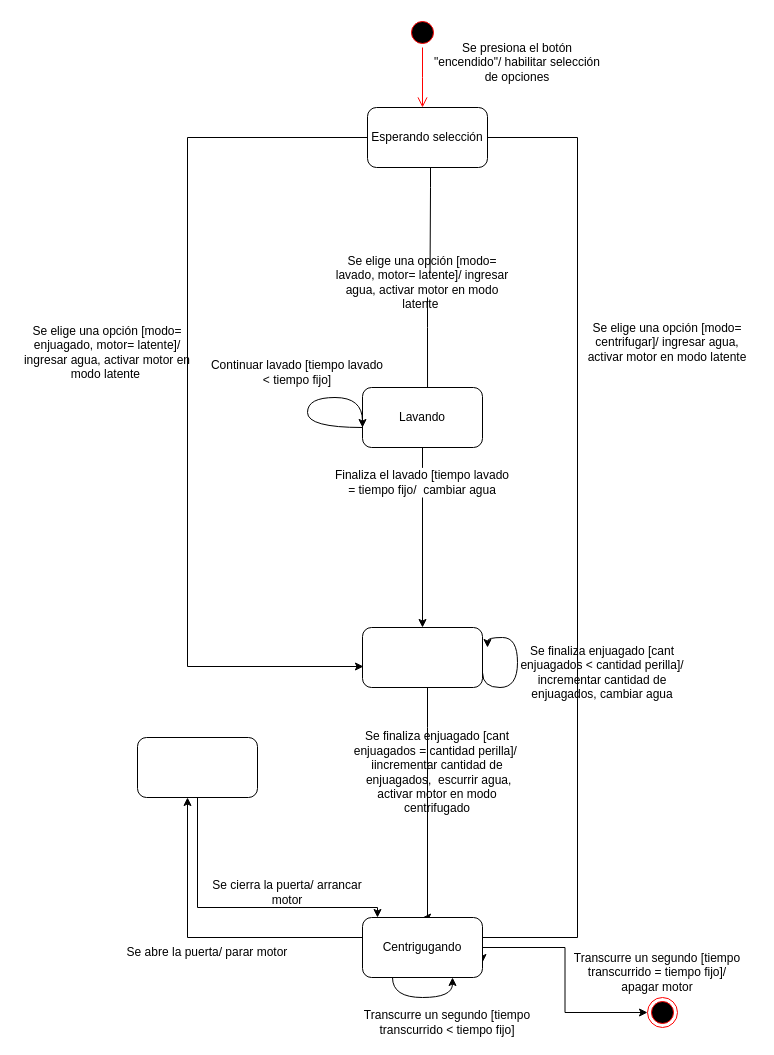
This 774x1055 diagram has some shape labels left out. The box of each missing label's shape, as (x1, y1, x2, y2) in pixels:
Enjuagando: (362, 626, 482, 688)
Esperando cierre de puerta: (136, 736, 258, 798)
